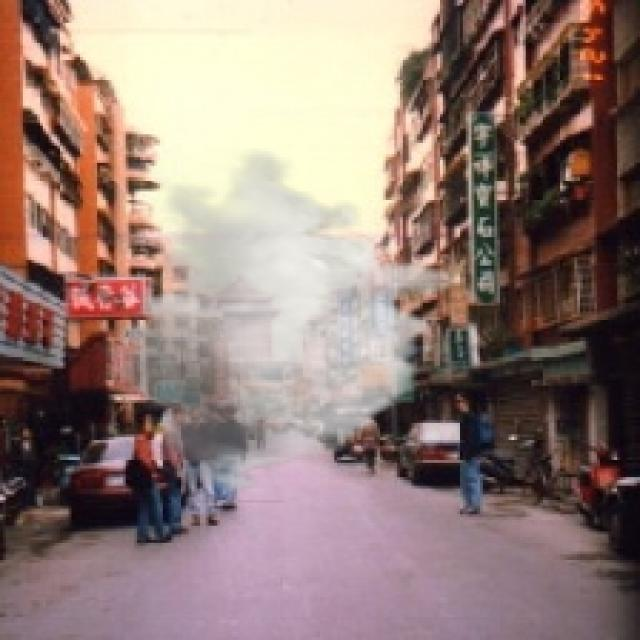smoke: (100, 149, 460, 494)
